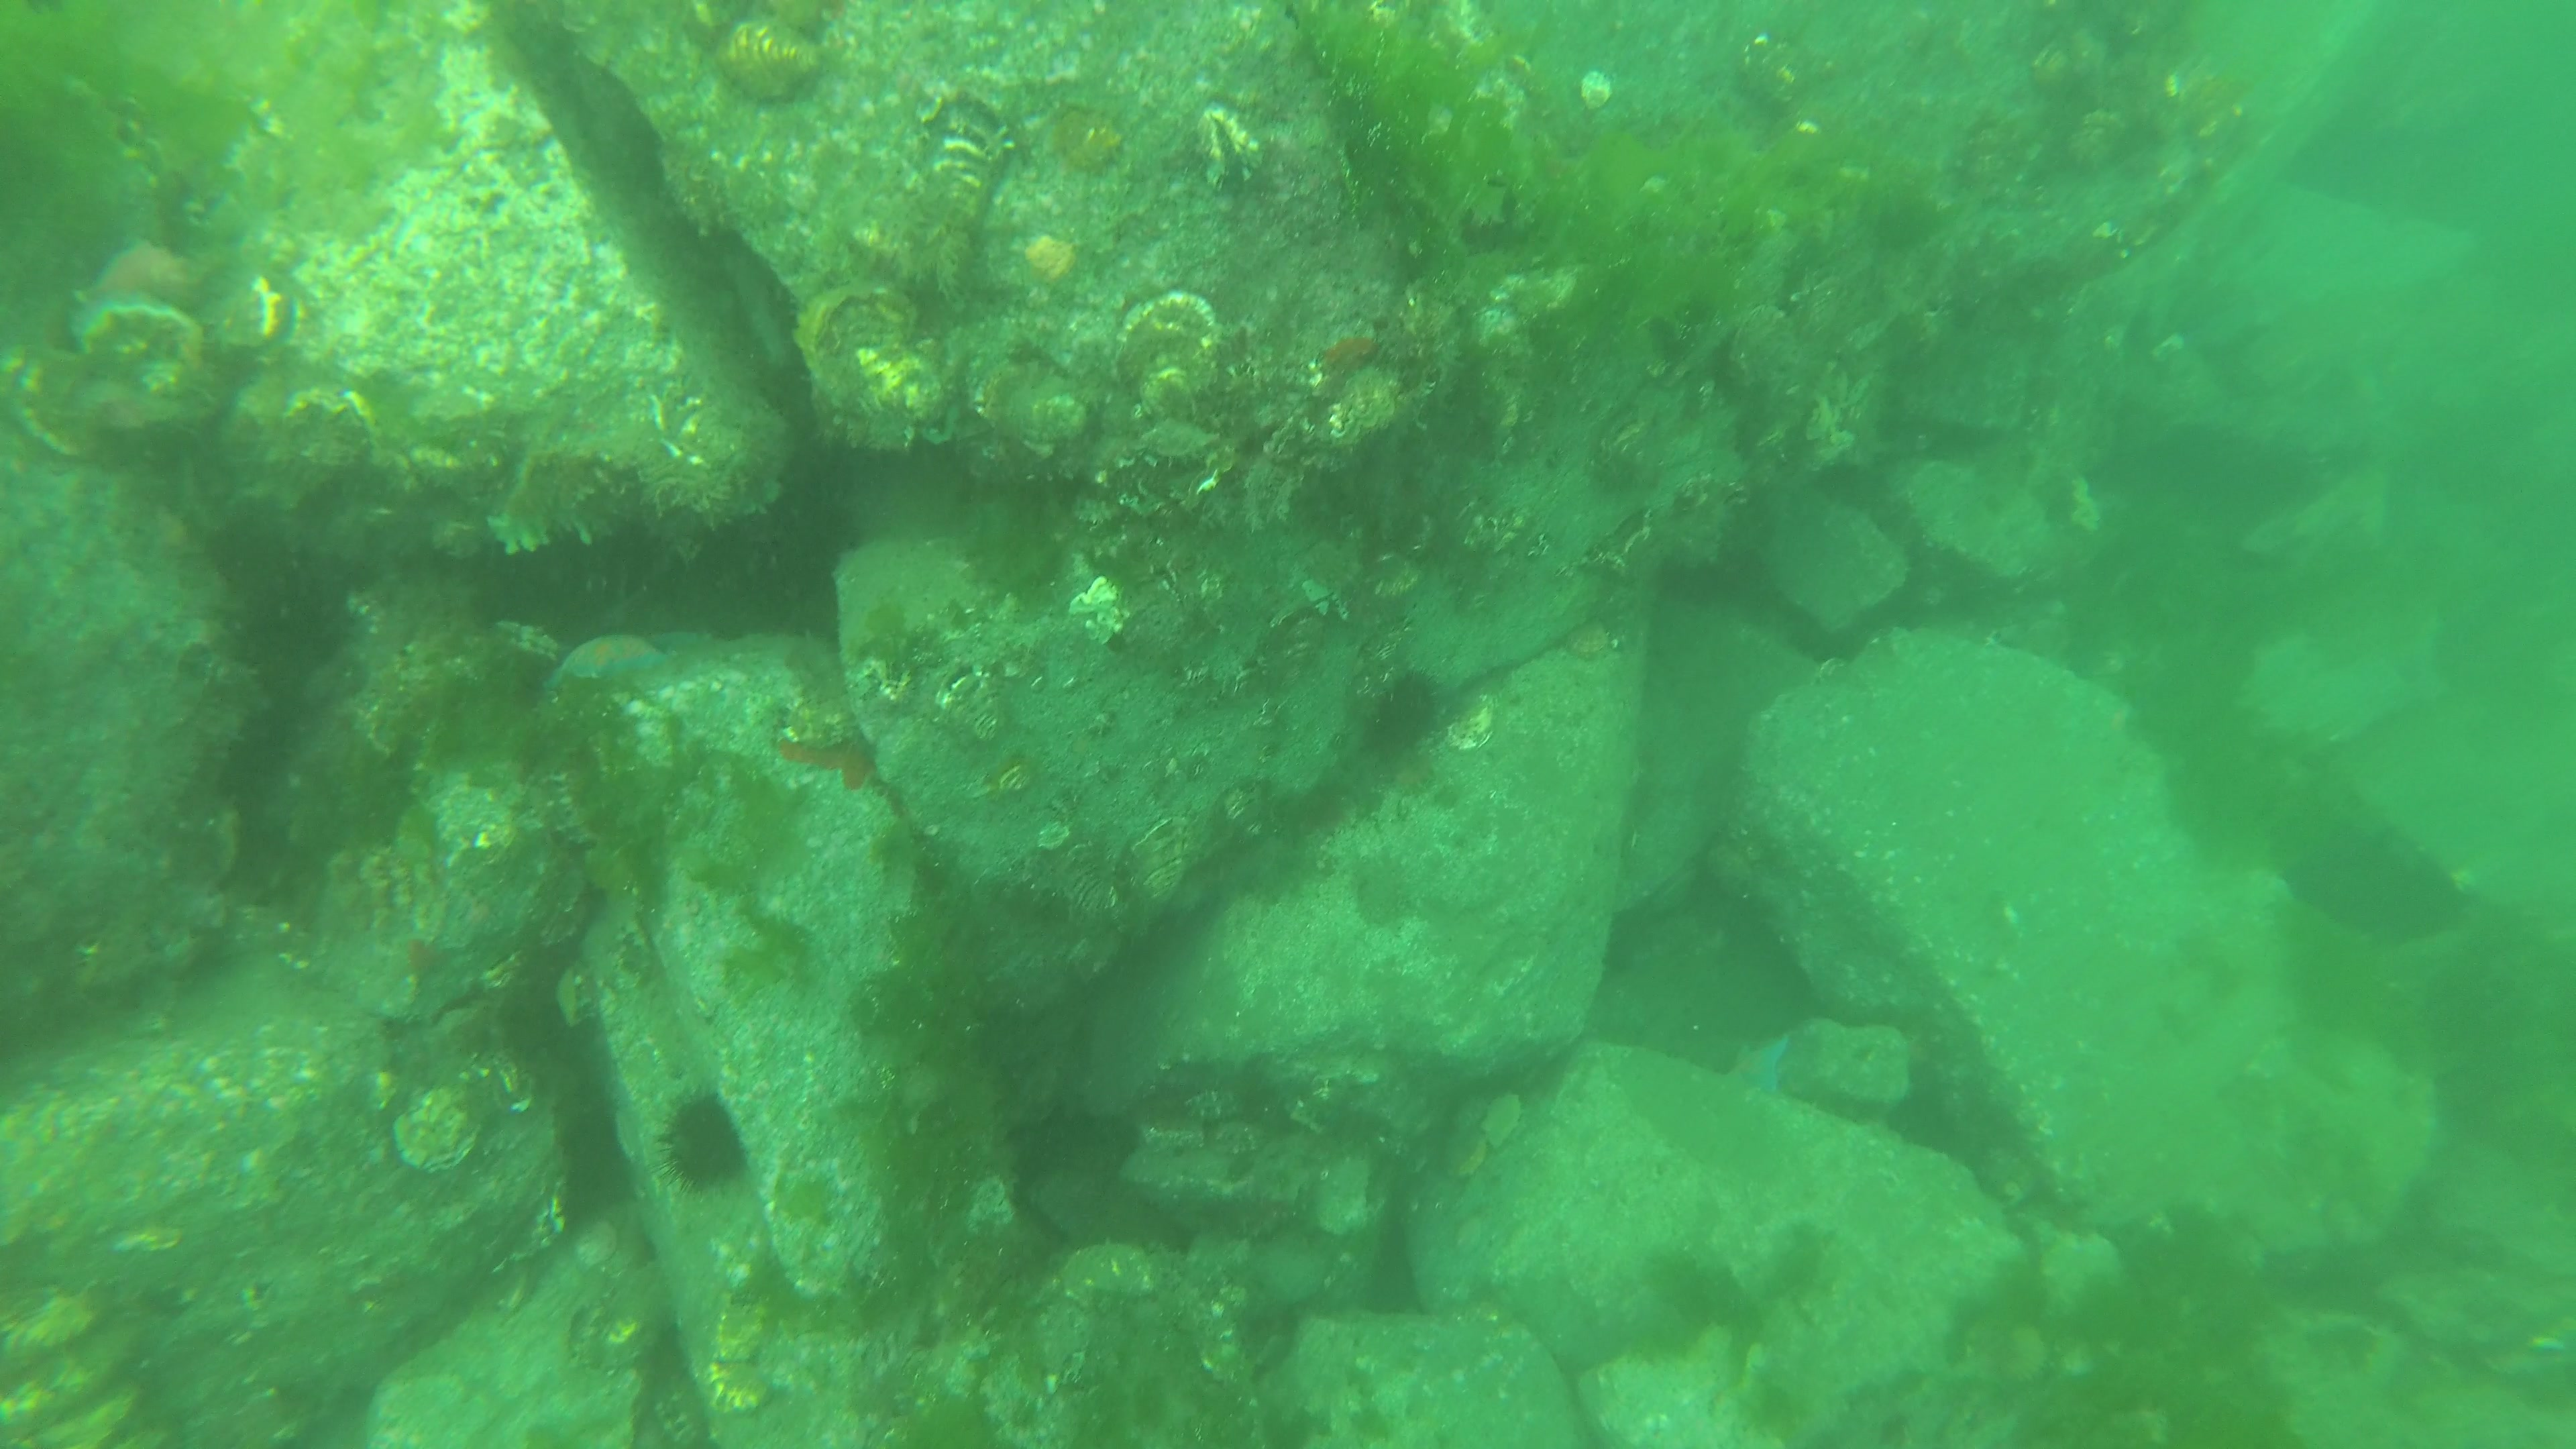echinus: (216, 564, 359, 768), (1012, 1102, 1143, 1233), (1658, 547, 1794, 628), (653, 1092, 750, 1201), (1371, 669, 1447, 752)
starfish: (92, 235, 188, 306), (557, 633, 674, 681), (1727, 1033, 1794, 1093)
